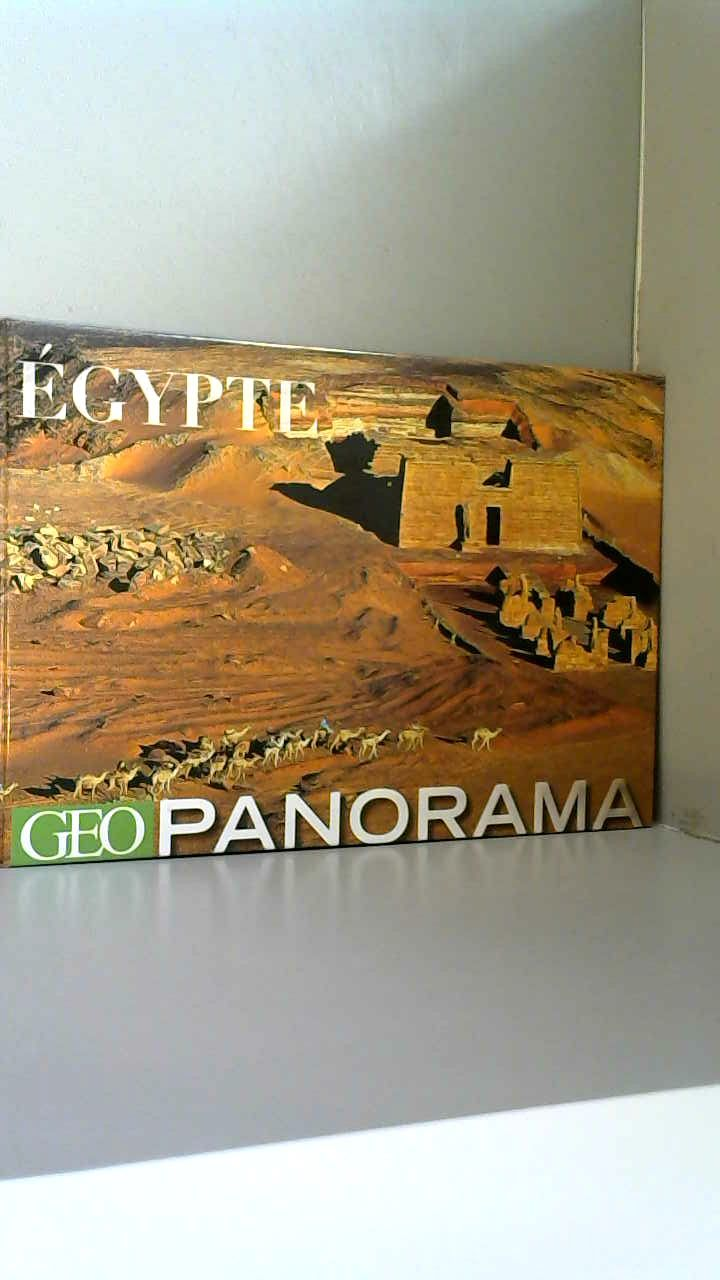book: (0, 290, 694, 878)
